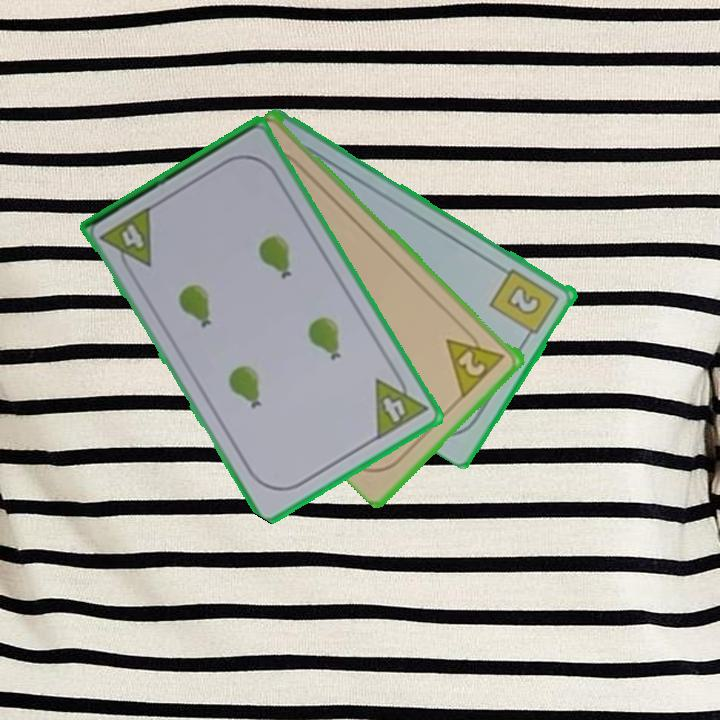2b: (487, 265, 563, 344)
2p: (442, 323, 510, 400)
4p: (371, 365, 431, 443), (97, 202, 156, 279)
